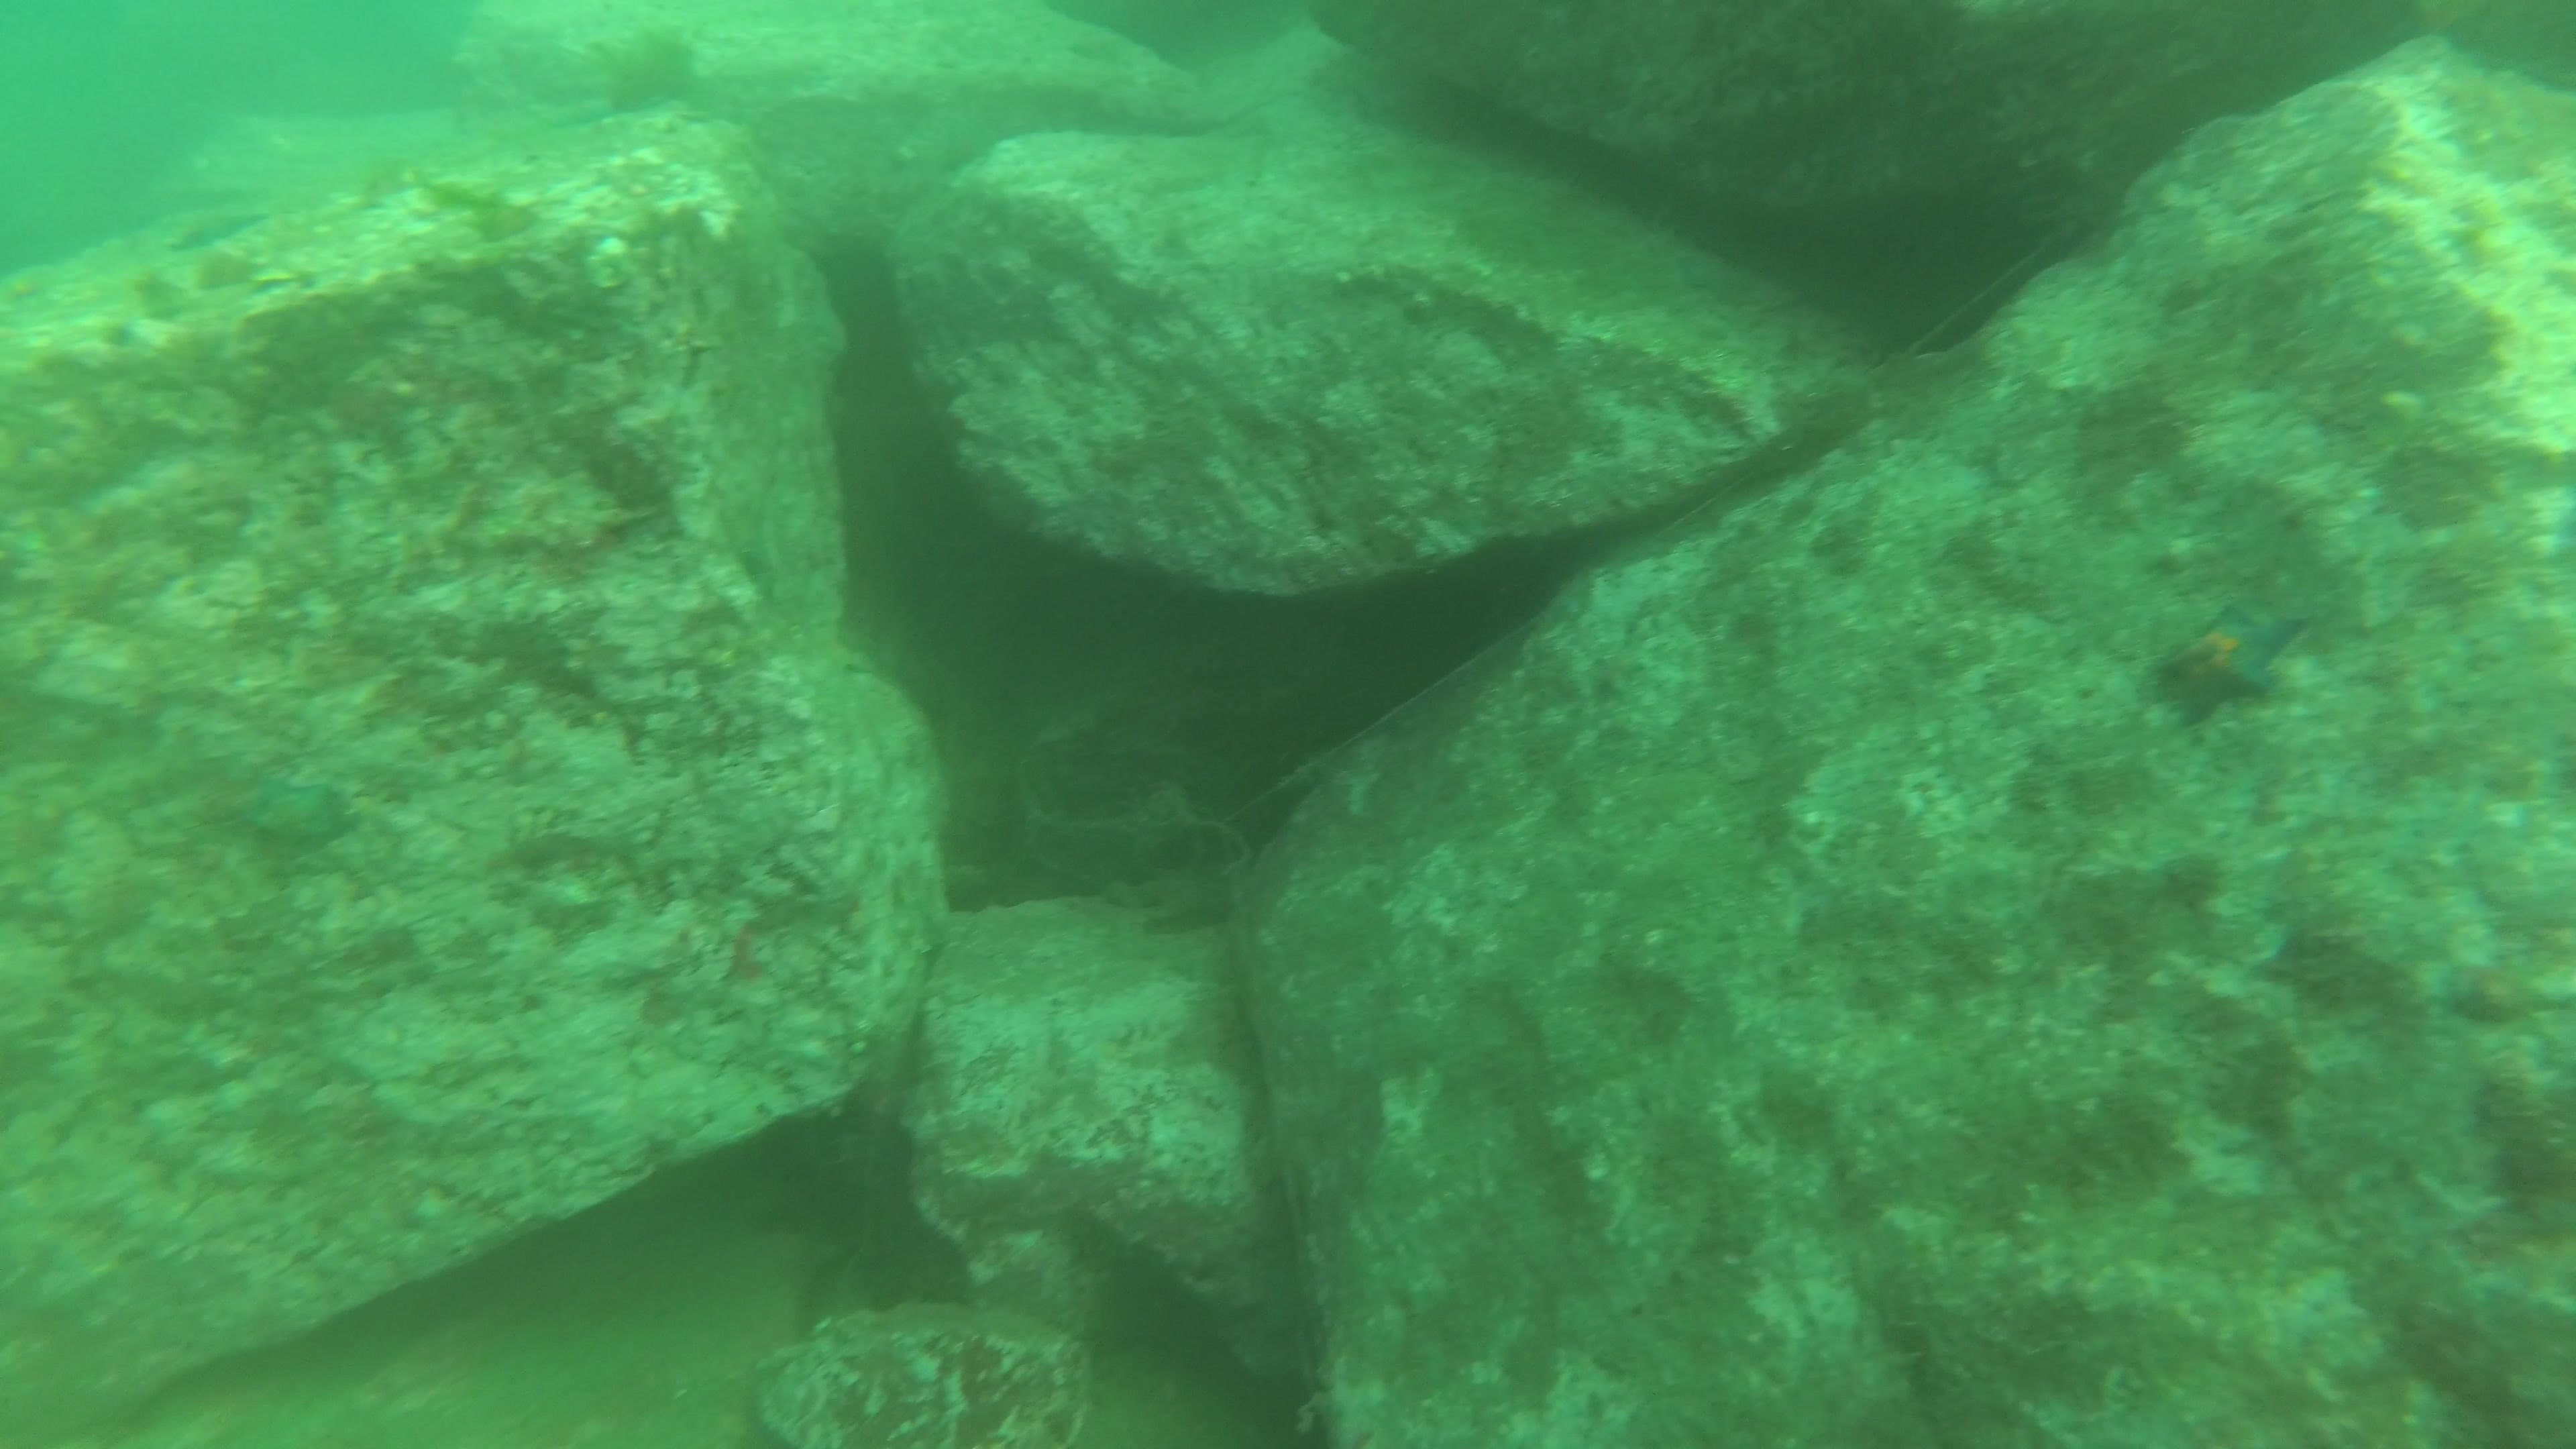scallop: (741, 1292, 1104, 1449)
starfish: (2150, 600, 2314, 731), (230, 777, 343, 865), (168, 211, 262, 260)
